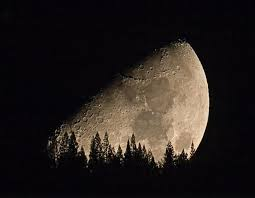moon: (39, 37, 210, 167)
